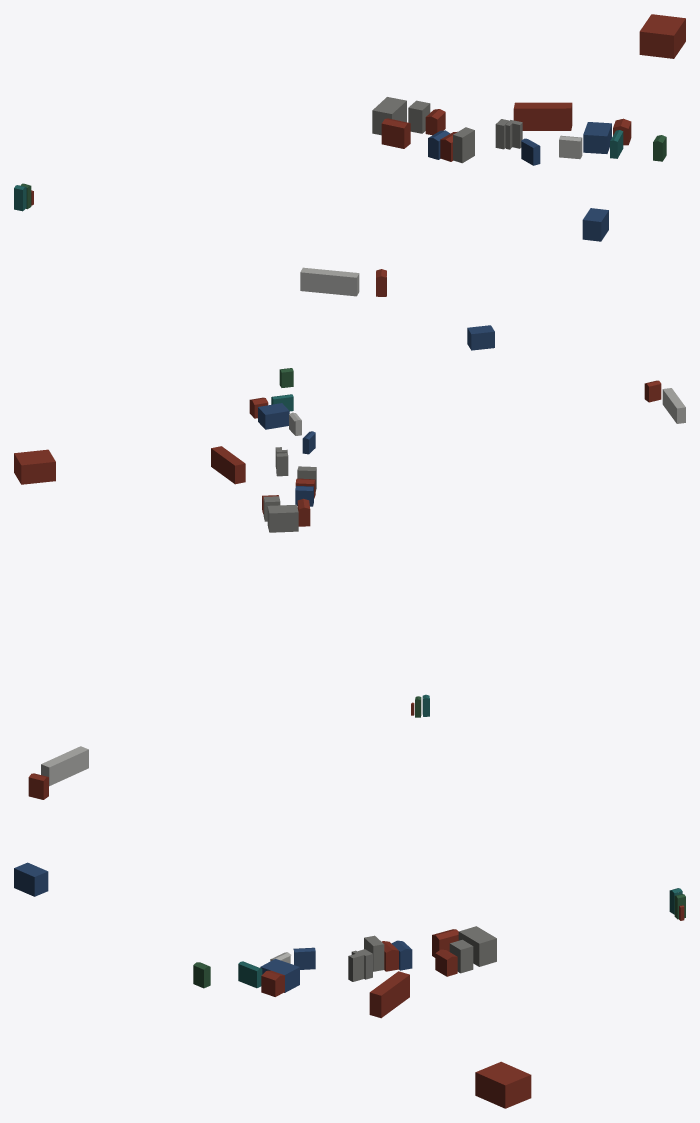
The model's file is near-16-54726-29746.d5afe7fd.glb.
3 views of the same model, one above another, from view 1: azimuth 30°, elevation 25°; view 2: azimuth 150°, elevation 25°; view 3: azimuth 270°, elevation 25° (orthographic). The views are drawn at different scales.
Bounding box in the file's own units: 595 × 160 × 577.
